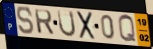0: (100, 14, 117, 42)
Q: (117, 14, 138, 44)
R: (33, 8, 55, 36)
S: (16, 5, 36, 35)
U: (57, 9, 77, 38)
X: (76, 10, 96, 41)
